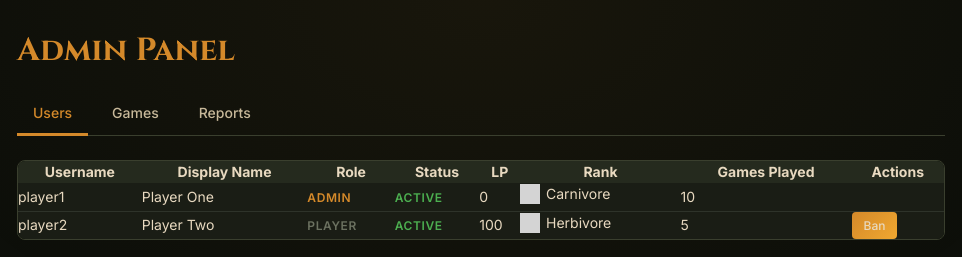
Test: AdminPage › switches to reports tab
This screenshot has width=962, height=257.
Expected: the text "Player One" is shown, left=142, top=183, right=307, bottom=211
Step 1. Click the button "Reports" → click(225, 115), box left=183, top=94, right=267, bottom=136
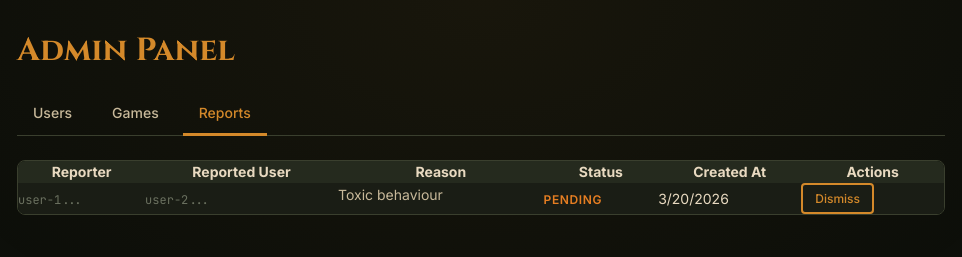
Expected: the text "Toxic behaviour" is shown, left=338, top=184, right=443, bottom=207
